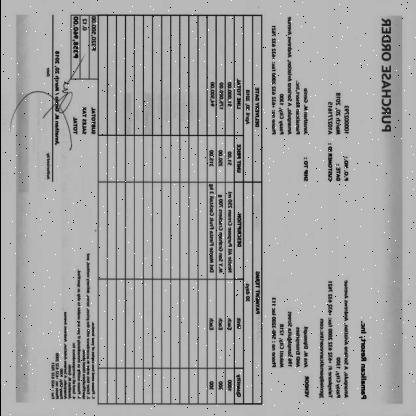Paragraph: (50, 252, 96, 401), (270, 16, 308, 136), (318, 280, 348, 400), (70, 15, 96, 135), (270, 298, 308, 368), (326, 92, 348, 182), (379, 17, 391, 132), (358, 320, 366, 400), (302, 156, 308, 182), (304, 376, 309, 398)
Table: (206, 15, 260, 404)
